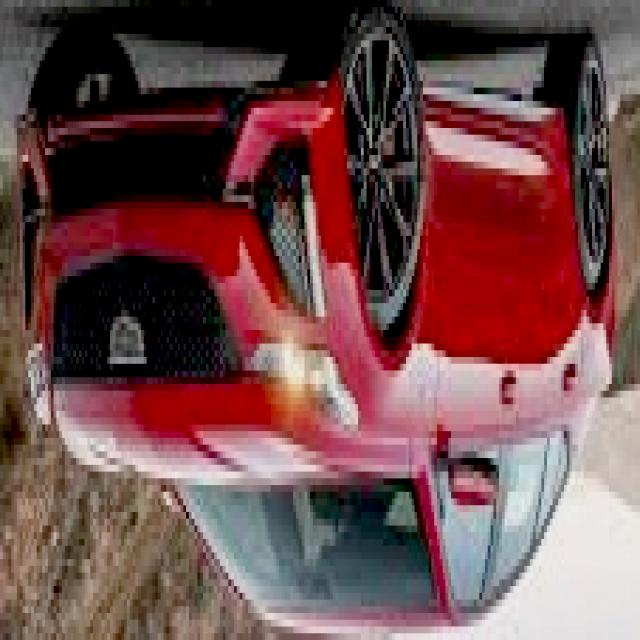red: (11, 40, 640, 640)
